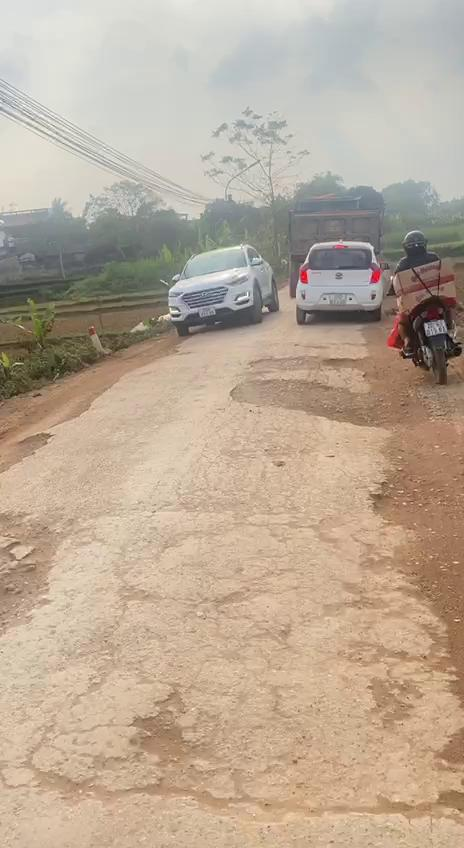pothole: (122, 685, 226, 814), (230, 354, 396, 430), (0, 505, 63, 646), (367, 456, 445, 536), (363, 663, 421, 735), (0, 427, 58, 475)
